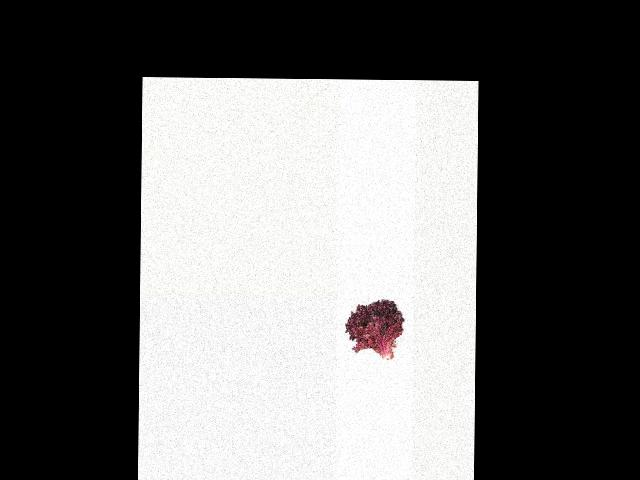lettuce: (343, 295, 402, 366)
